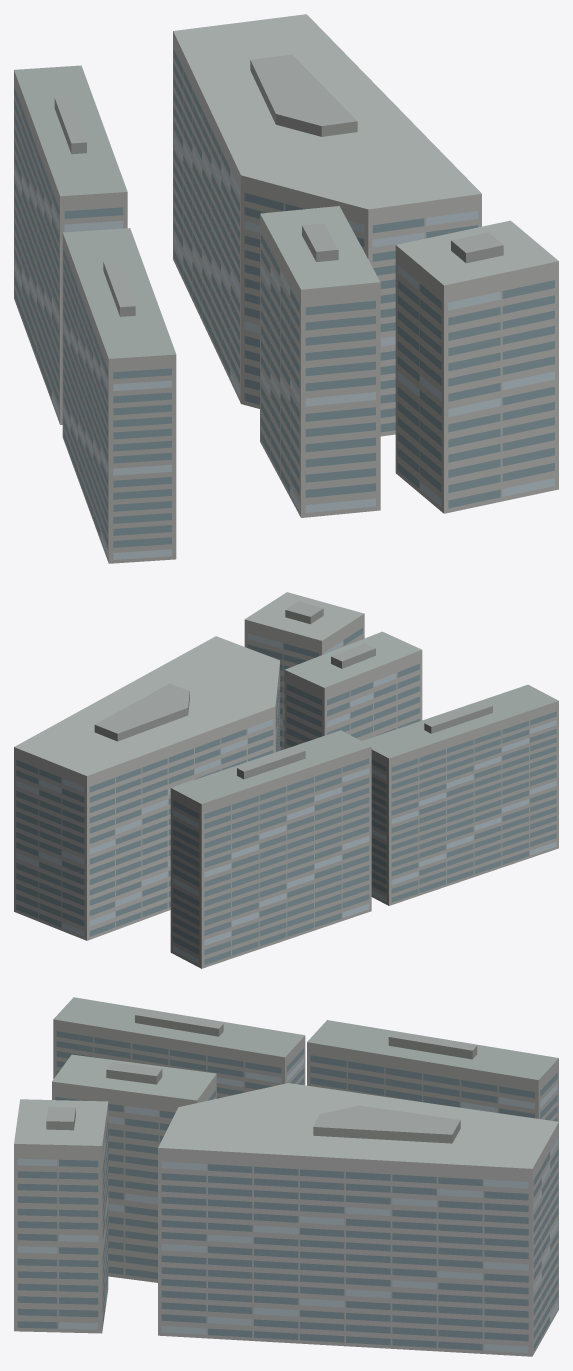
The model's file is apt-a12284701.glb.
3 renders of one model, top to bottom at view 1: azimuth 30°, elevation 25°; view 2: azimuth 150°, elevation 25°; view 3: azimuth 270°, elevation 25°, orthographic. The views are drawn at different scales.
Parts seen in each view (by area): view 1: apt-a12284701; view 2: apt-a12284701; view 3: apt-a12284701.
Part boxes in pixels (left/top/right/bottom): apt-a12284701: left=14, top=14, right=558, bottom=563; apt-a12284701: left=14, top=592, right=558, bottom=968; apt-a12284701: left=14, top=997, right=558, bottom=1356.
Bounding box in the file's own units: 100 × 48 × 121.
